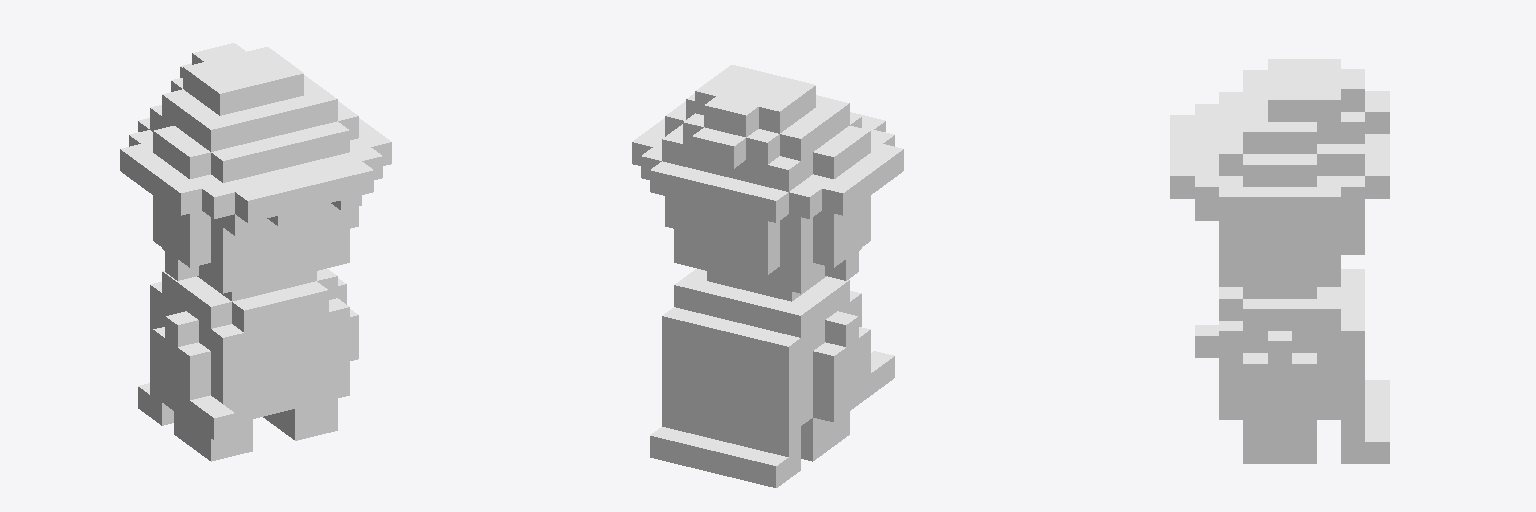
File: chara_player.obj
The picture shows the model from 3 angles: view 1: azimuth 30°, elevation 25°; view 2: azimuth 150°, elevation 25°; view 3: azimuth 270°, elevation 25°; orthographic projection.
Parts seen in each view (by area): view 1: object 1; view 2: object 1; view 3: object 1.
Part boxes in pixels (bbox=[...]): object 1: bbox=[120, 43, 391, 461]; object 1: bbox=[632, 65, 903, 487]; object 1: bbox=[1170, 59, 1389, 463].
Bounding box in the file's own units: 1 × 1.6 × 0.9.